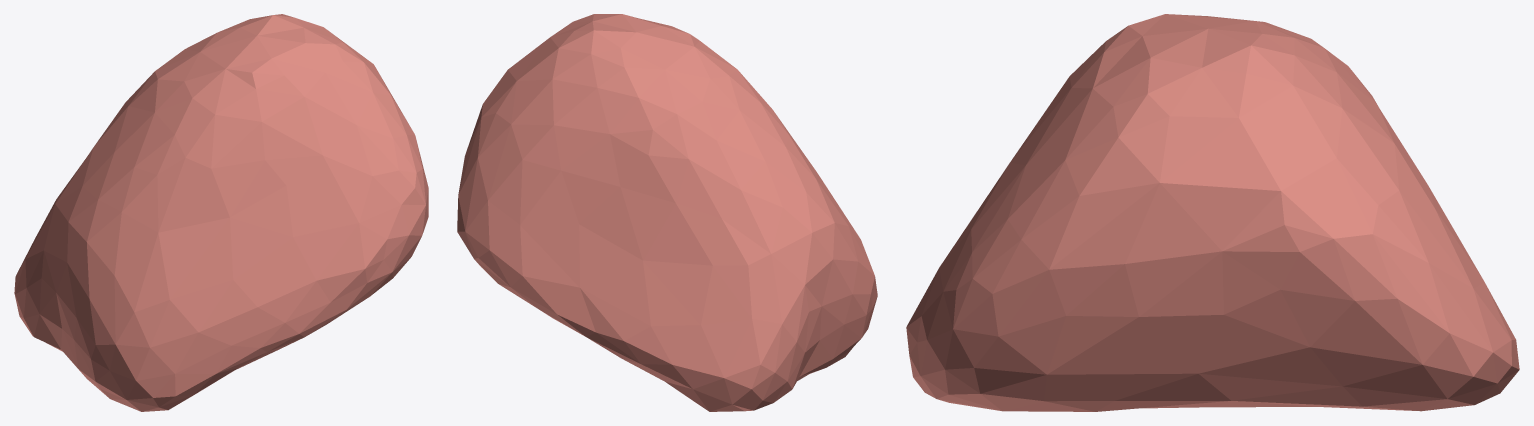
The picture shows the model from 3 angles, left to right: view 1: azimuth 30°, elevation 25°; view 2: azimuth 150°, elevation 25°; view 3: azimuth 270°, elevation 25°; orthographic projection. The views are drawn at different scales.
Visible parts, largest first — view 1: 38.obj; view 2: 38.obj; view 3: 38.obj.
Part boxes in pixels (x1,y1,x2,y2): 38.obj: [14, 14, 428, 411]; 38.obj: [457, 14, 877, 411]; 38.obj: [906, 14, 1519, 411].
Bounding box in the file's own units: 760 × 701 × 770.
